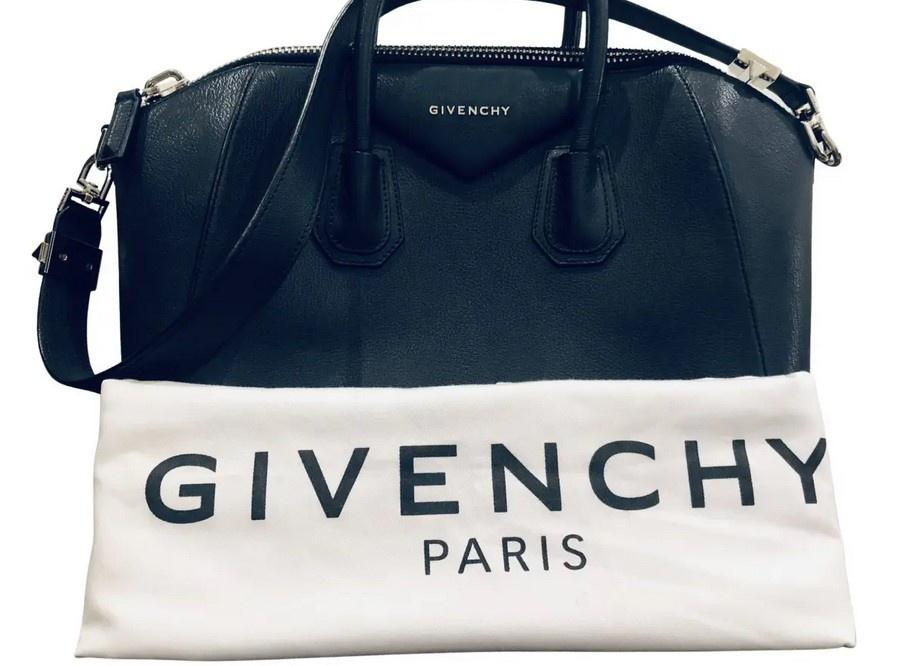GIVENCHY: (121, 435, 840, 531), (417, 77, 526, 135)
